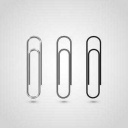Metal: (82, 32, 119, 106), (49, 32, 80, 105), (17, 32, 47, 105)
